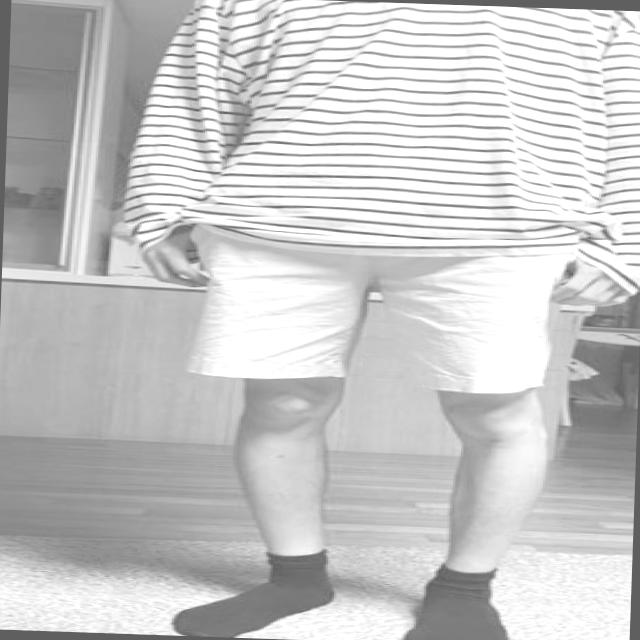longsleeve: (110, 0, 640, 270)
shortpants: (178, 228, 578, 404)
